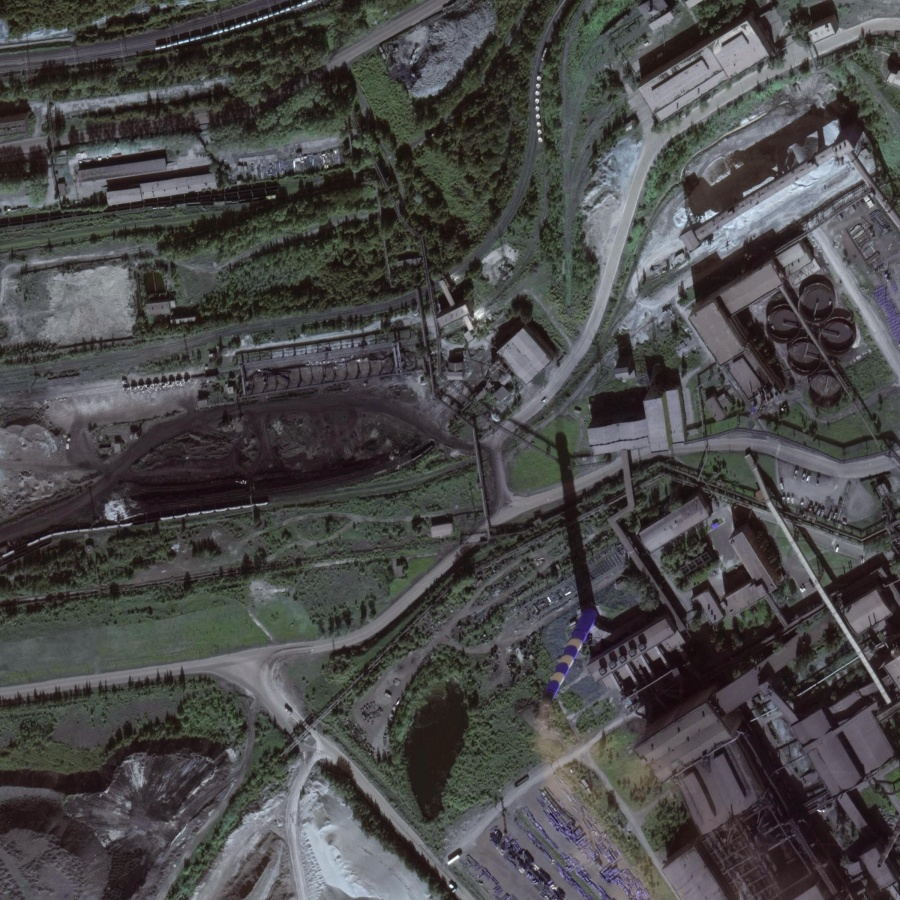PowerPlant: (3, 368, 443, 532)
